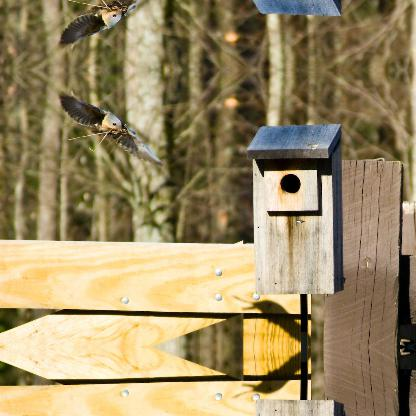Bird: (55, 95, 159, 149), (55, 0, 160, 44)
